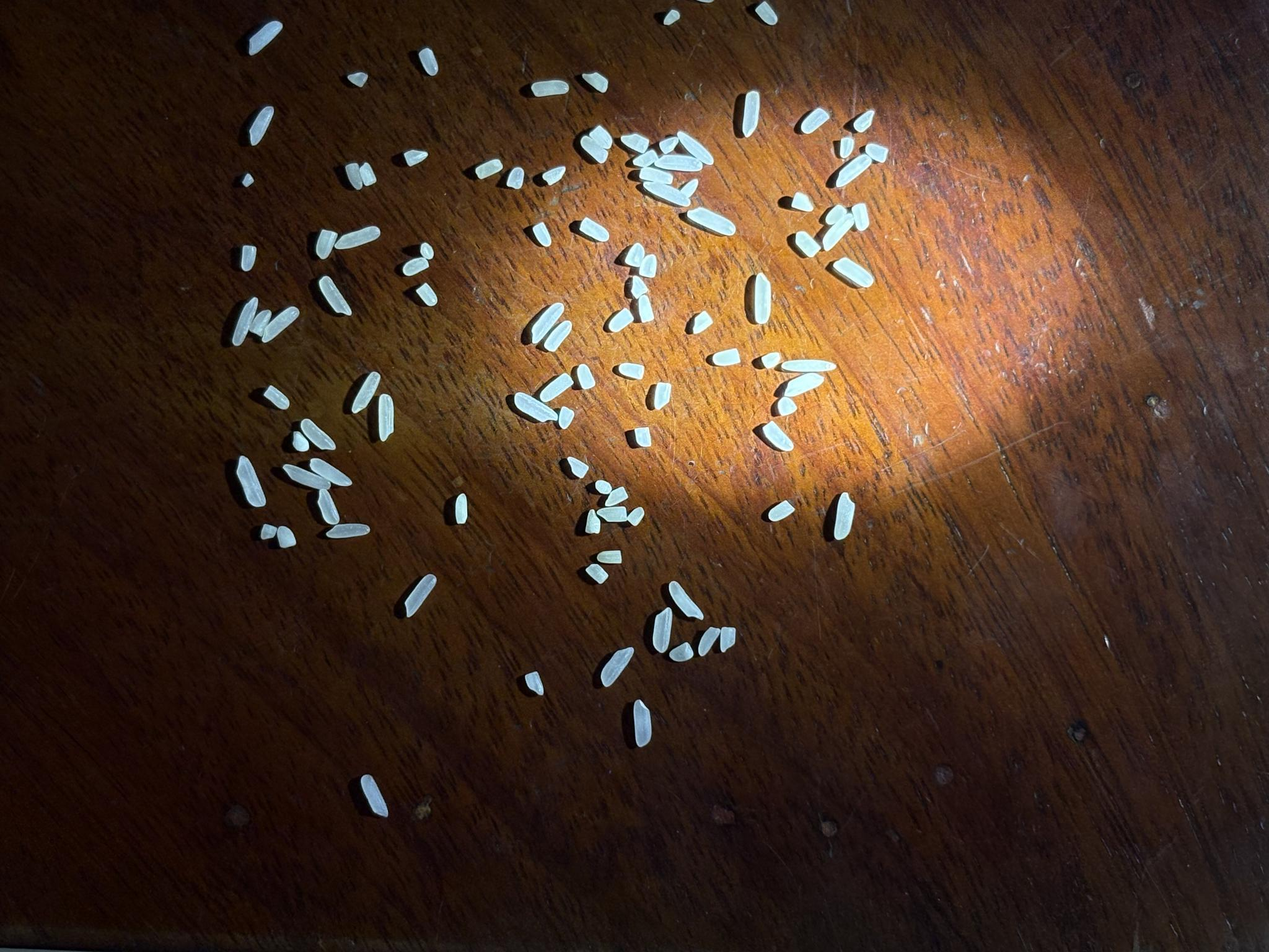Rice-th-y-nh: (231, 455, 270, 509), (745, 271, 780, 326), (780, 348, 837, 381), (334, 220, 381, 258), (686, 203, 737, 237), (827, 491, 861, 542), (666, 579, 705, 623), (402, 572, 438, 619), (528, 300, 565, 345), (281, 461, 333, 493), (676, 127, 715, 169), (626, 699, 658, 748), (735, 89, 767, 138), (833, 152, 873, 191), (261, 304, 301, 343), (599, 646, 635, 689), (832, 255, 876, 290), (646, 606, 678, 654), (512, 390, 557, 424), (317, 275, 353, 317), (819, 212, 855, 254), (308, 456, 353, 489), (358, 773, 390, 818), (784, 367, 824, 403), (643, 179, 691, 209), (371, 393, 400, 442), (656, 148, 703, 178), (299, 416, 337, 452), (350, 371, 381, 415), (231, 297, 258, 346), (325, 517, 370, 546), (760, 418, 795, 454), (248, 20, 283, 55), (531, 73, 570, 103), (247, 105, 275, 146), (538, 372, 574, 403), (542, 319, 574, 353), (311, 226, 340, 262), (315, 487, 341, 526), (711, 343, 742, 372), (578, 216, 610, 244), (580, 135, 609, 165), (793, 229, 822, 259), (800, 106, 830, 135), (597, 500, 629, 527), (638, 164, 674, 187), (696, 625, 721, 658), (848, 201, 873, 233), (607, 307, 635, 335), (768, 497, 795, 526), (668, 639, 696, 666), (262, 385, 291, 411), (342, 161, 367, 191), (620, 130, 650, 155), (617, 358, 646, 383), (474, 157, 504, 181), (417, 46, 440, 77), (651, 380, 674, 411), (634, 294, 657, 325), (789, 189, 815, 216), (716, 624, 740, 653), (237, 243, 260, 273), (636, 252, 660, 280), (249, 309, 273, 337), (451, 493, 472, 525), (623, 242, 647, 270), (754, 0, 779, 26), (775, 394, 800, 420), (864, 140, 890, 165), (589, 125, 615, 150), (852, 108, 877, 134), (274, 524, 298, 551), (402, 145, 429, 169), (581, 71, 609, 94), (574, 363, 597, 391), (504, 165, 528, 191), (632, 147, 659, 170), (523, 670, 546, 697), (402, 256, 430, 278), (758, 348, 783, 372), (824, 203, 849, 227), (604, 485, 629, 509), (627, 274, 650, 300), (531, 221, 553, 248), (692, 310, 714, 337), (596, 547, 624, 568), (415, 283, 439, 307), (585, 562, 610, 585), (542, 164, 567, 187), (358, 161, 380, 187), (566, 456, 590, 479), (632, 425, 654, 449), (556, 405, 577, 430), (583, 509, 603, 535), (658, 134, 680, 156), (679, 178, 700, 200), (836, 136, 856, 159), (290, 430, 310, 452), (626, 506, 646, 527), (259, 522, 279, 542), (347, 70, 369, 88), (418, 241, 436, 261), (594, 478, 613, 496), (662, 9, 681, 26), (240, 173, 256, 188)
